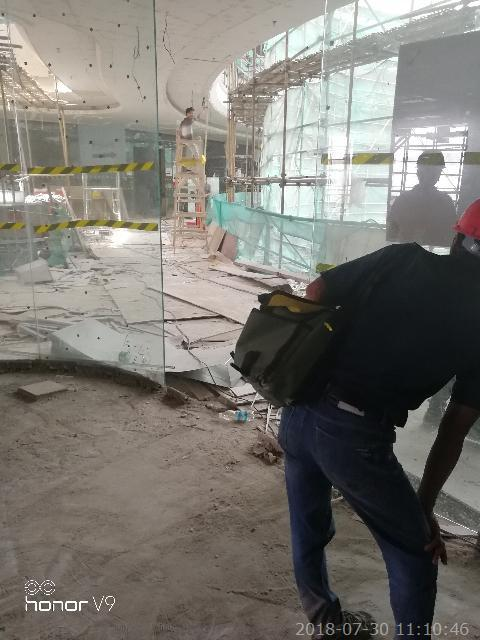helmet: (451, 197, 480, 241)
